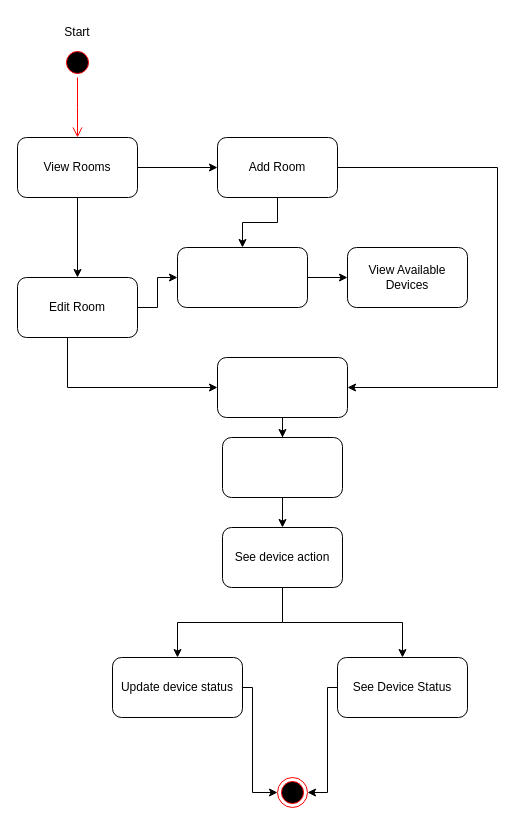
Some shapes in this 523 by 825 pixel diagram are drawn without their labels. The box of each missing label's shape, as (x1, y1, x2, y2) in pixels:
Add Device: (176, 246, 308, 308)
See device: (222, 436, 342, 498)
See Devices: (216, 356, 348, 418)
